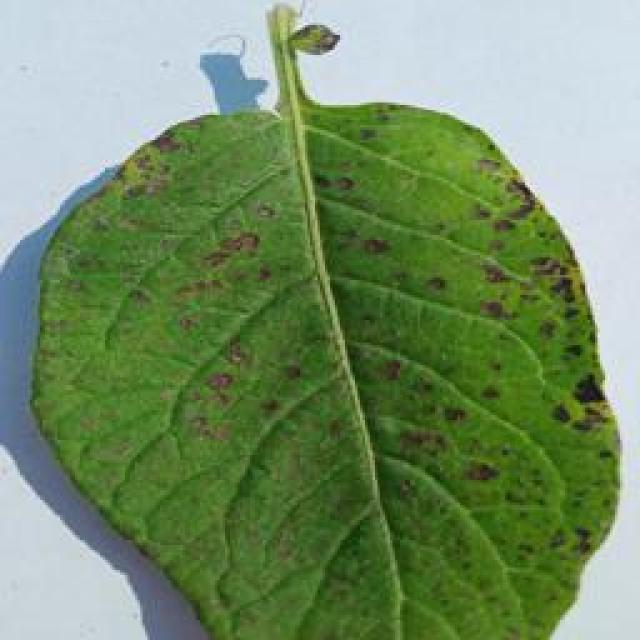Potato_Early_Blight: (31, 98, 626, 640)
